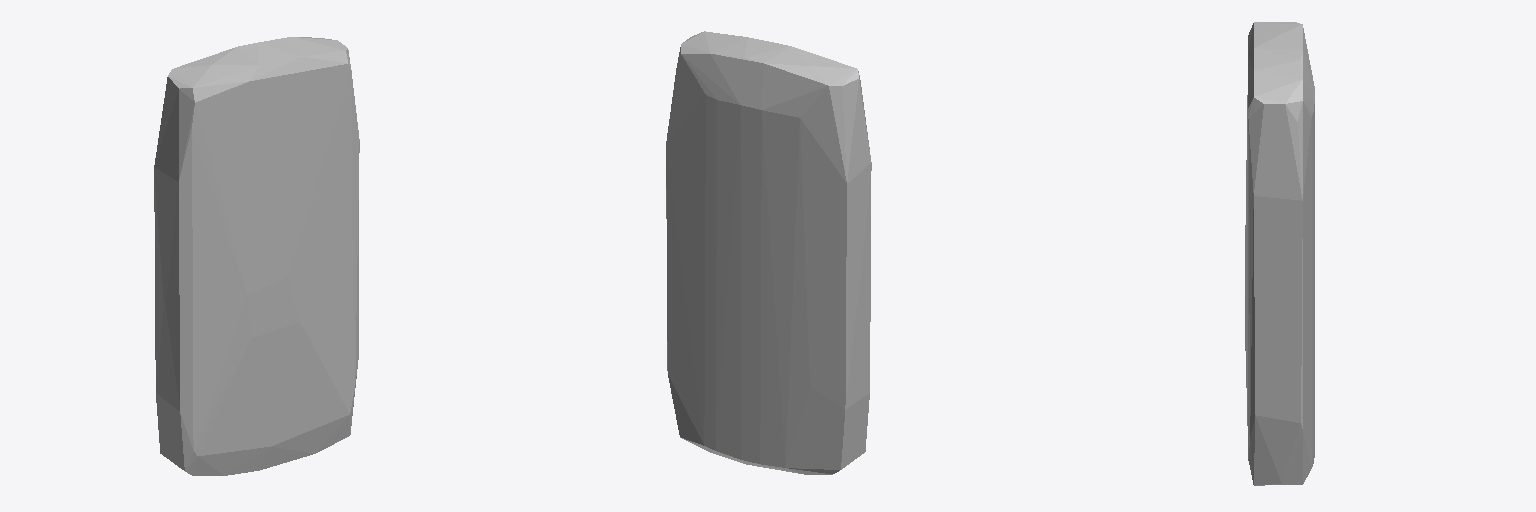
The picture shows the model from 3 angles: view 1: azimuth 30°, elevation 25°; view 2: azimuth 150°, elevation 25°; view 3: azimuth 270°, elevation 25°; orthographic projection.
Parts seen in each view (by area): view 1: convex_0; view 2: convex_0; view 3: convex_0.
Part boxes in pixels (bbox=[...]): convex_0: bbox=[154, 37, 359, 475]; convex_0: bbox=[666, 31, 871, 474]; convex_0: bbox=[1245, 22, 1314, 485].
Bounding box in the file's own units: 0.0676 × 0.1448 × 0.0227.